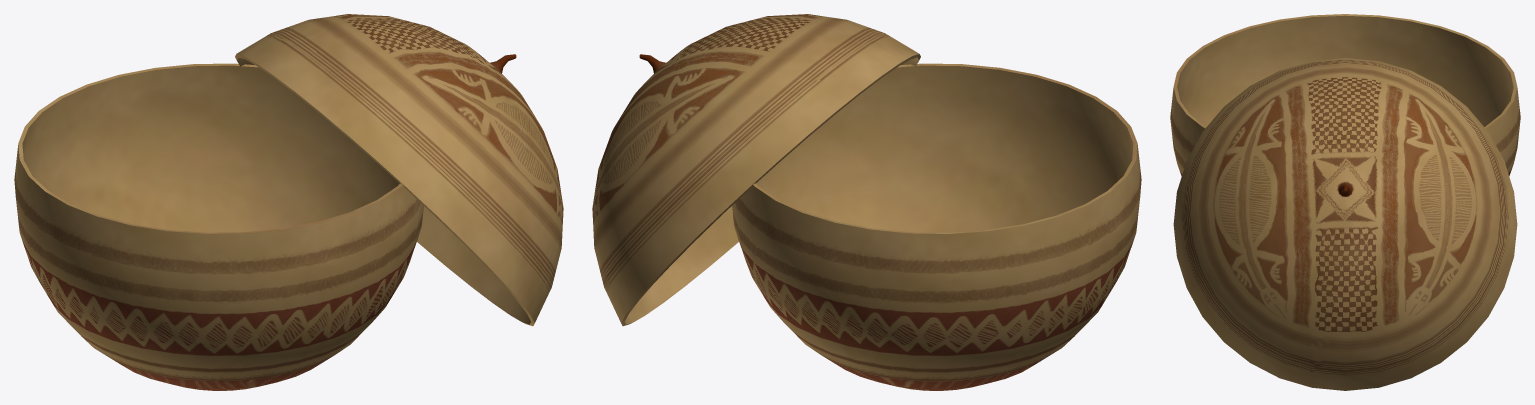
Rendered from Calebasse_à_couvercle.fbx.
The picture shows the model from 3 angles, left to right: view 1: azimuth 30°, elevation 25°; view 2: azimuth 150°, elevation 25°; view 3: azimuth 270°, elevation 25°; orthographic projection. The views are drawn at different scales.
Parts seen in each view (by area): view 1: Calebasse, Couvercle; view 2: Calebasse, Couvercle; view 3: Couvercle, Calebasse.
Boxes of the visible parts, <box> form: Calebasse: <box>14,63,423,390</box>; Couvercle: <box>235,14,563,326</box>; Calebasse: <box>732,63,1141,390</box>; Couvercle: <box>592,14,920,326</box>; Couvercle: <box>1173,58,1517,390</box>; Calebasse: <box>1170,14,1520,176</box>.
Bounding box in the file's own units: 277 × 163 × 200.
Materials: 1 (1 with a texture image).
